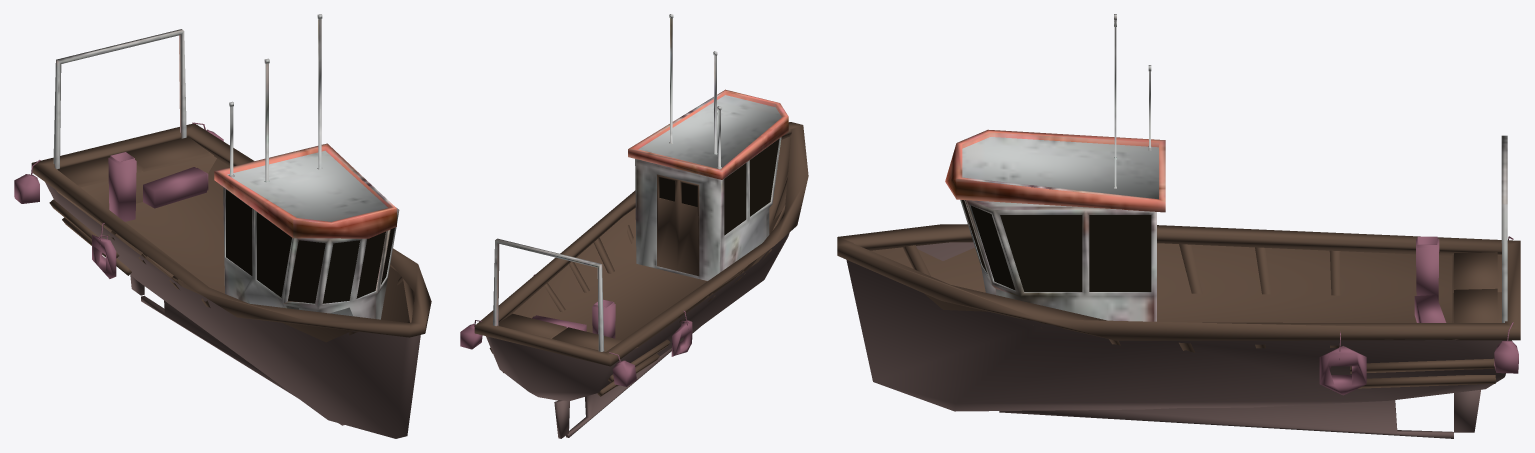
File: cove-fisher-boat.lod1.glb
3 views of the same model, side by side, from view 1: azimuth 30°, elevation 25°; view 2: azimuth 150°, elevation 25°; view 3: azimuth 270°, elevation 25° (orthographic). The views are drawn at different scales.
Parts seen in each view (by area): view 1: Cube.022_MainColor_0, Cube.022_Metal_0; view 2: Cube.022_MainColor_0, Cube.022_Metal_0; view 3: Cube.022_MainColor_0, Cube.022_Metal_0.
Boxes of the visible parts, x1=… form: Cube.022_MainColor_0: x1=14, y1=122, x2=431, y2=438; Cube.022_Metal_0: x1=53, y1=14, x2=399, y2=319; Cube.022_MainColor_0: x1=460, y1=122, x2=808, y2=438; Cube.022_Metal_0: x1=493, y1=14, x2=788, y2=351; Cube.022_MainColor_0: x1=837, y1=200, x2=1520, y2=438; Cube.022_Metal_0: x1=945, y1=14, x2=1507, y2=322.
Size of the model in its own units: 3.46 by 6.32 by 8.94.
Materials: 2 (1 with a texture image).
